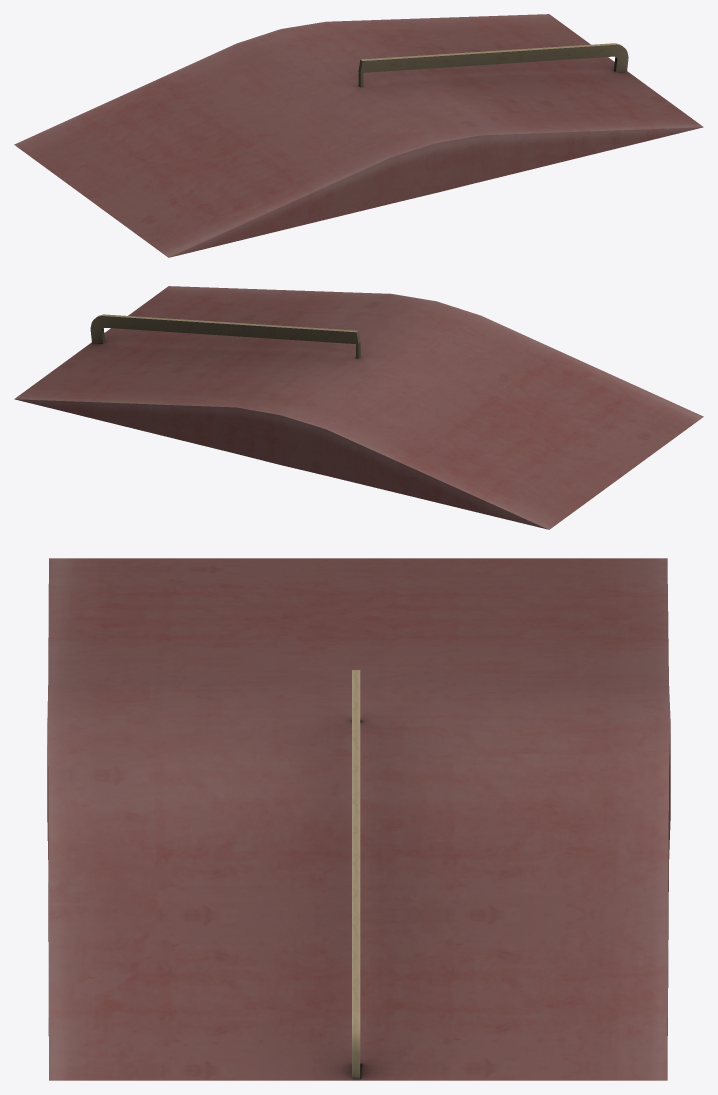
Rendered from Ramp09.fbx.
The picture shows the model from 3 angles, top to bottom: view 1: azimuth 30°, elevation 25°; view 2: azimuth 150°, elevation 25°; view 3: azimuth 270°, elevation 25°; orthographic projection. The views are drawn at different scales.
Parts seen in each view (by area): view 1: Ramp09; view 2: Ramp09; view 3: Ramp09.
Boxes of the visible parts, box(x1,y1,x2,y2) form: Ramp09: box(14, 14, 703, 257); Ramp09: box(14, 286, 703, 529); Ramp09: box(47, 558, 670, 1080).
Bounding box in the file's own units: 12.04 × 1.64 × 6.06.
